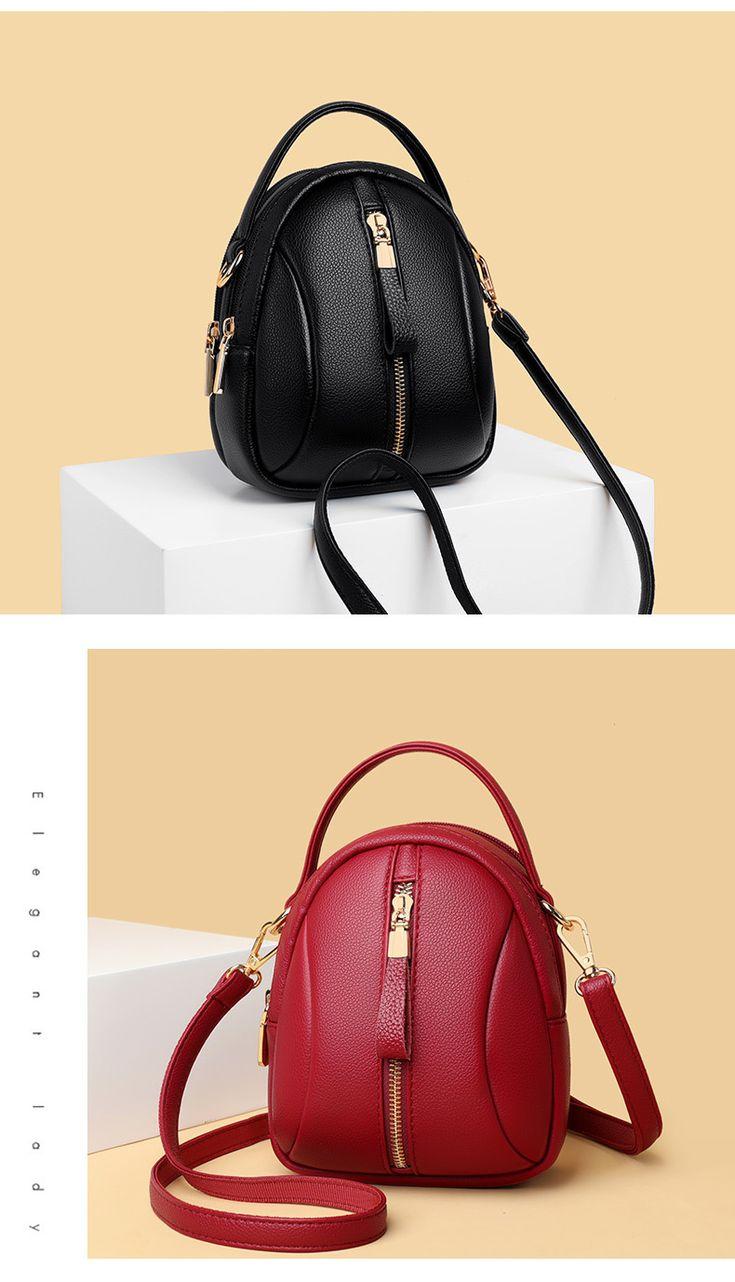cuero: (148, 103, 663, 1253)
